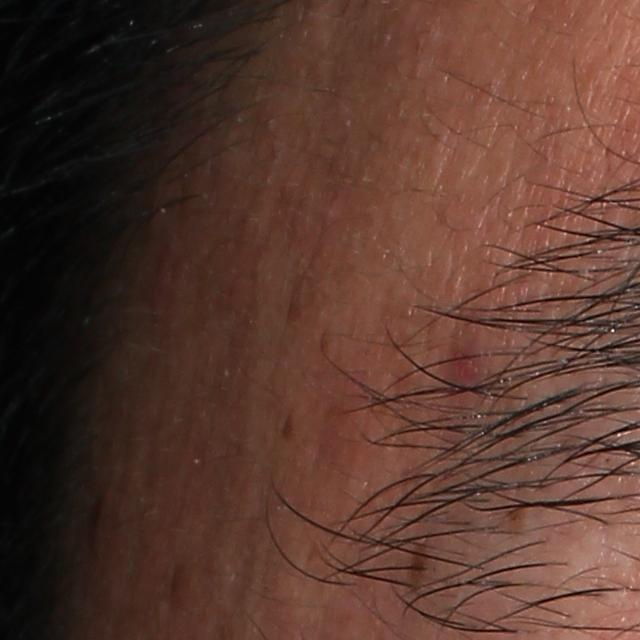nevus: (408, 538, 429, 592), (280, 410, 295, 442)
